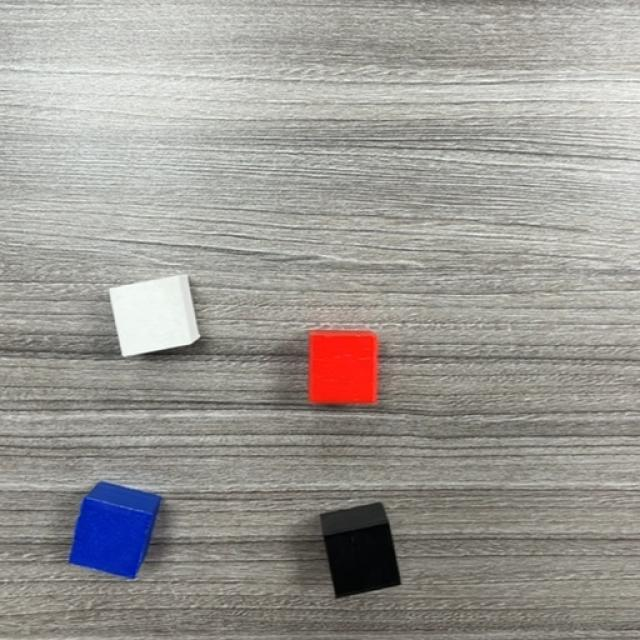Azul: (72, 497, 148, 577)
Blanco: (107, 278, 191, 355)
Negro: (325, 522, 400, 597)
Rojo: (311, 334, 377, 403)
